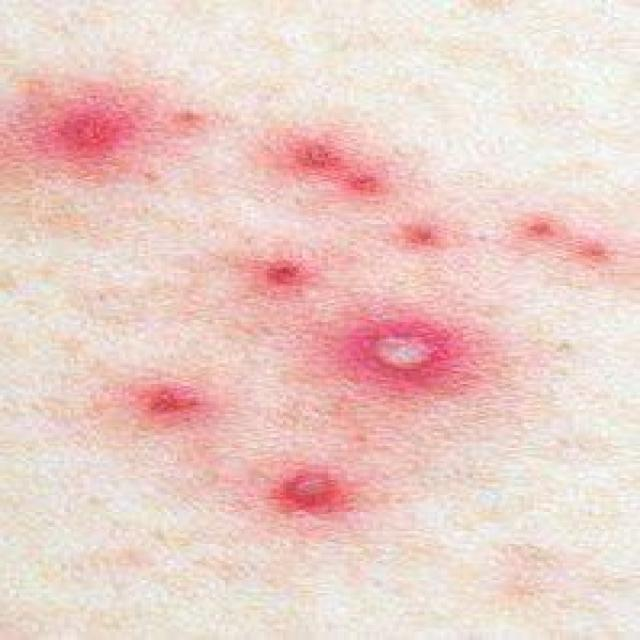kan emici bocekler: (326, 311, 474, 392), (255, 460, 364, 522), (130, 375, 213, 422)
